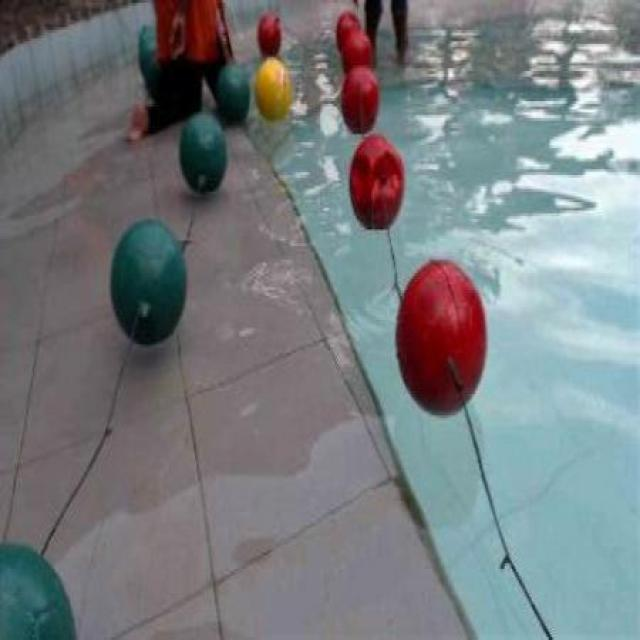buoy: (392, 255, 488, 418), (108, 215, 188, 348), (0, 539, 78, 640), (347, 132, 404, 230), (178, 111, 226, 191), (341, 64, 379, 132), (252, 56, 288, 119), (215, 60, 250, 121), (340, 30, 370, 74), (257, 13, 281, 58), (335, 11, 360, 49), (138, 34, 158, 76)
